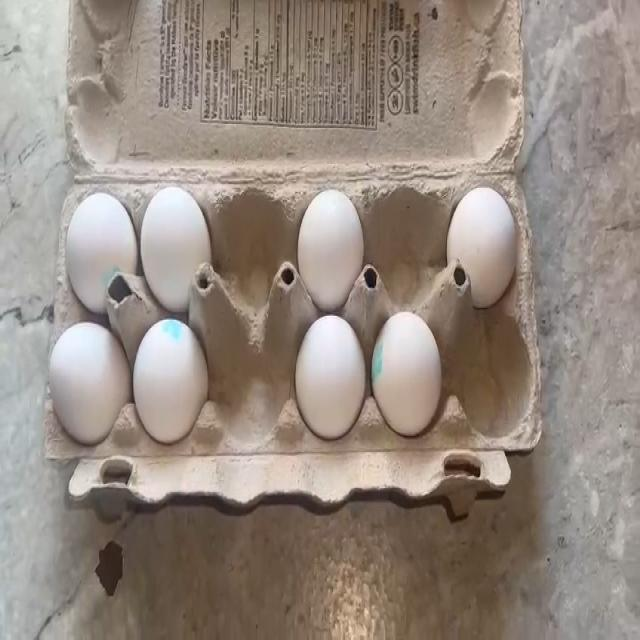Egg: (52, 163, 126, 301), (295, 182, 363, 294), (141, 181, 204, 300), (51, 329, 118, 437), (376, 314, 441, 424), (444, 182, 512, 283), (302, 325, 361, 424), (140, 326, 194, 421)
